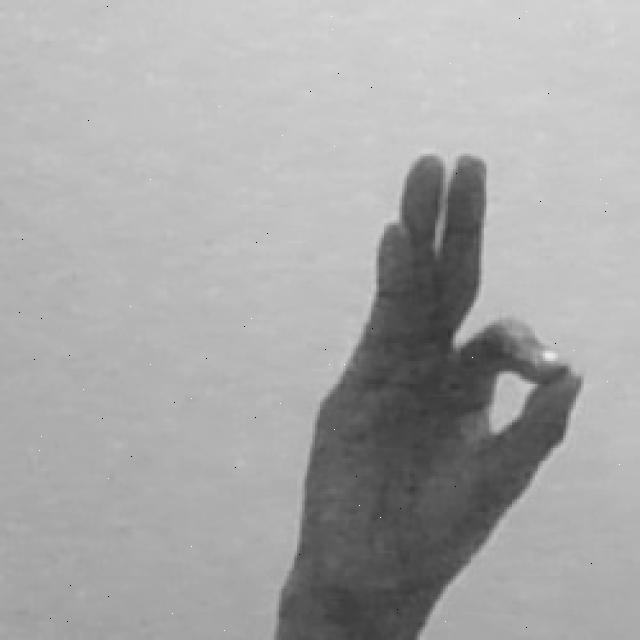F: (270, 151, 585, 640)
